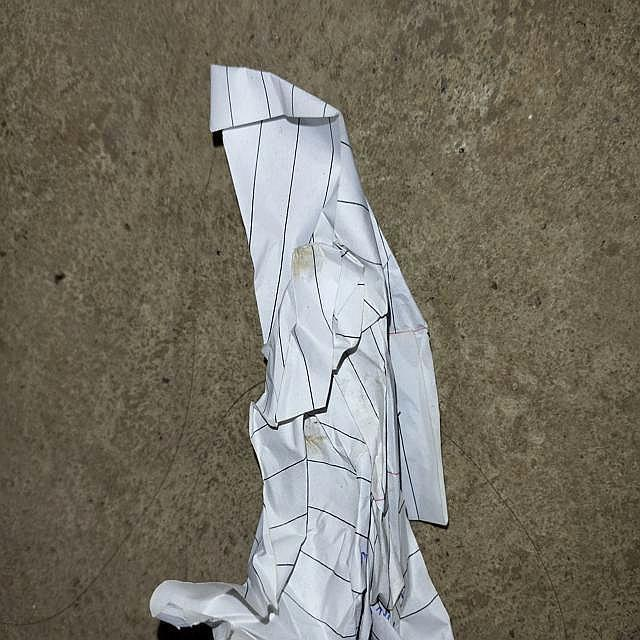Biodegradable: (151, 67, 453, 640)
